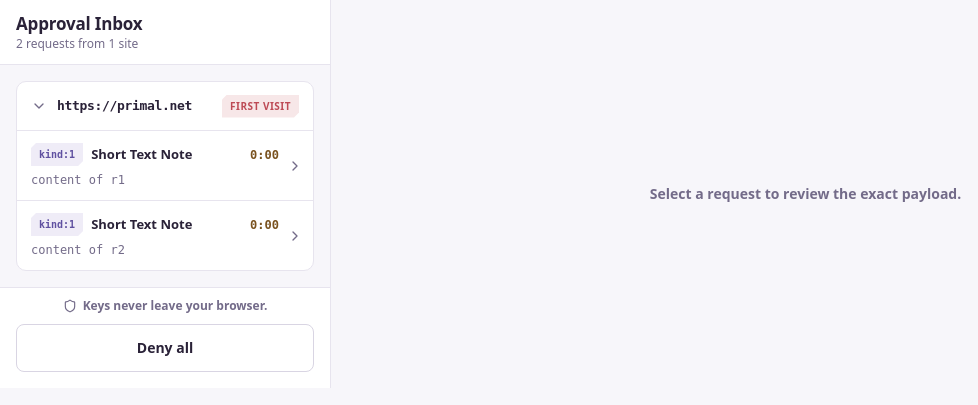
Test: ApprovalPrompt batch deny › shows the refusal when a batch fails
Step 1. Click the button "Deny all" → (165, 348), box [16,324,314,372]
Wait 600 ms
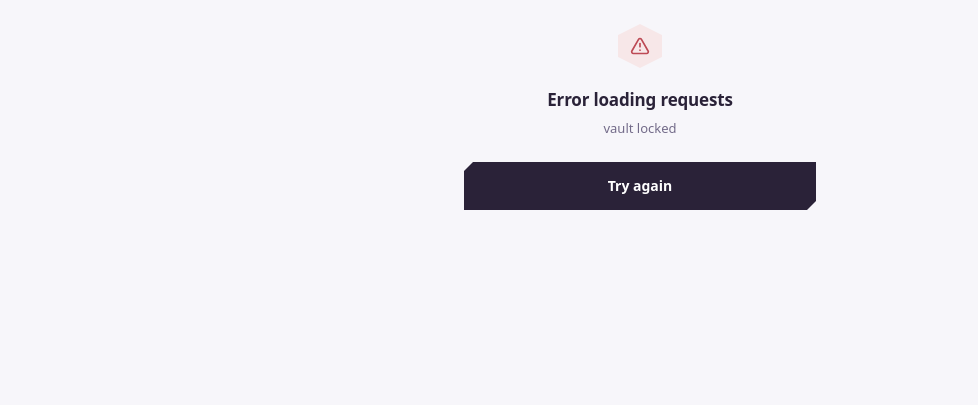
Now the text "vault locked" is shown, box [604,118,677,138]
